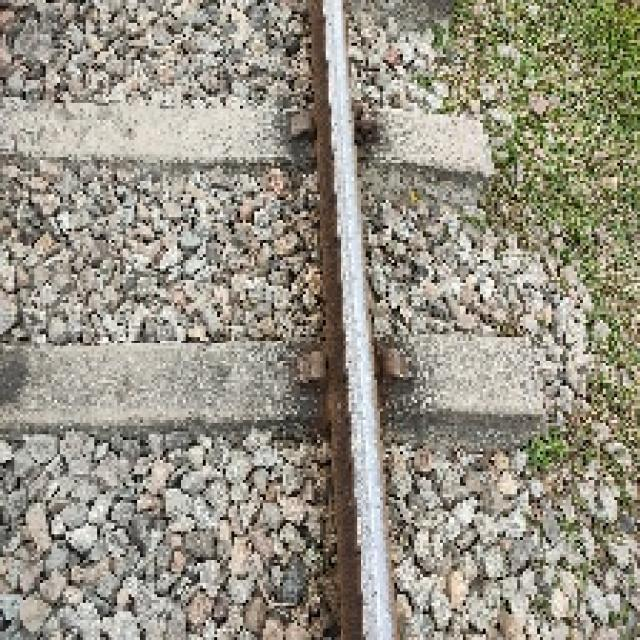Good Fasteners: (360, 105, 384, 160)
Missing Fastener: (365, 343, 420, 406), (262, 111, 326, 142), (279, 352, 335, 386)
